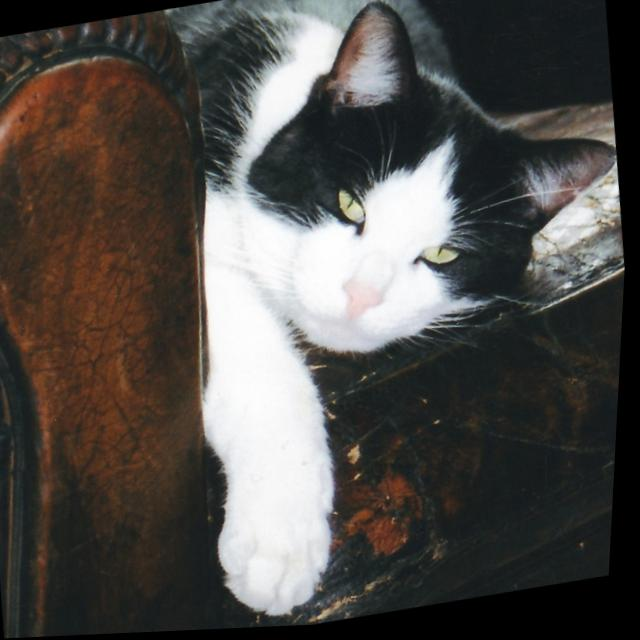animals: (292, 0, 637, 325)
